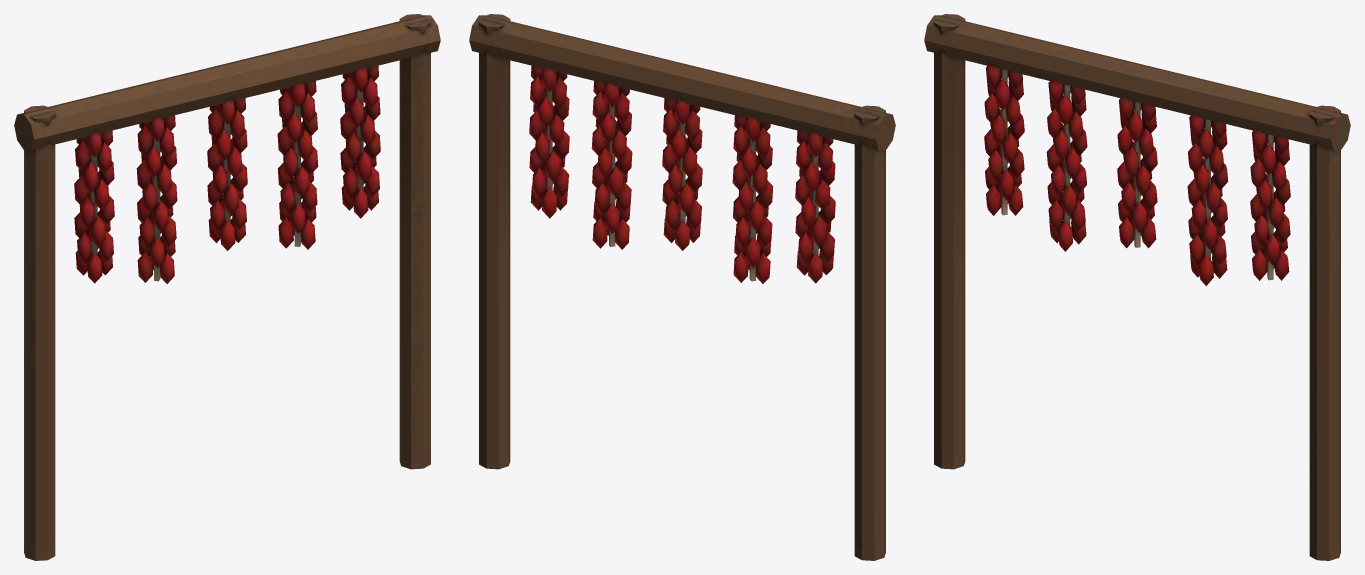
File: ristra_chiles.glb
3 renders of one model, left to right at view 1: azimuth 30°, elevation 25°; view 2: azimuth 150°, elevation 25°; view 3: azimuth 330°, elevation 25°, orthographic.
Parts seen in each view (by area): view 1: ristra_chiles; view 2: ristra_chiles; view 3: ristra_chiles.
Boxes of the visible parts, x1,y1,x2,y2 form: ristra_chiles: (14,14,440,560); ristra_chiles: (469,14,895,560); ristra_chiles: (924,14,1350,560).
Size of the model in its own units: 2.6 by 2.71 by 0.2213.
Materials: 1 (1 with a texture image).
